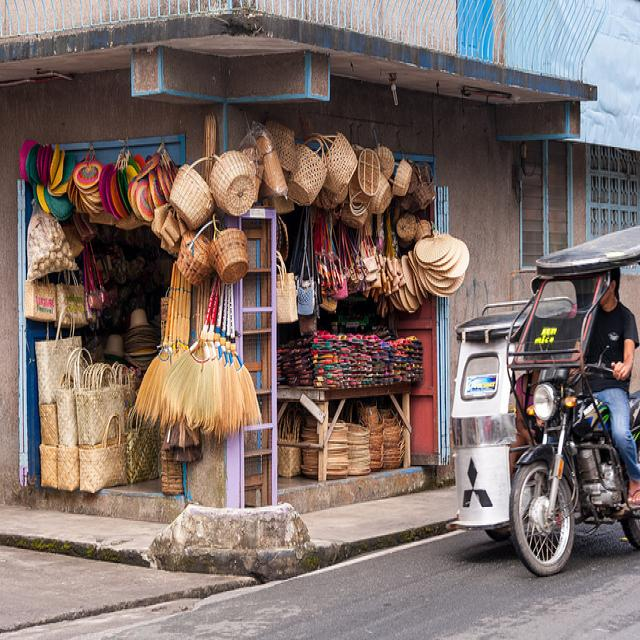motor: (510, 359, 639, 575)
